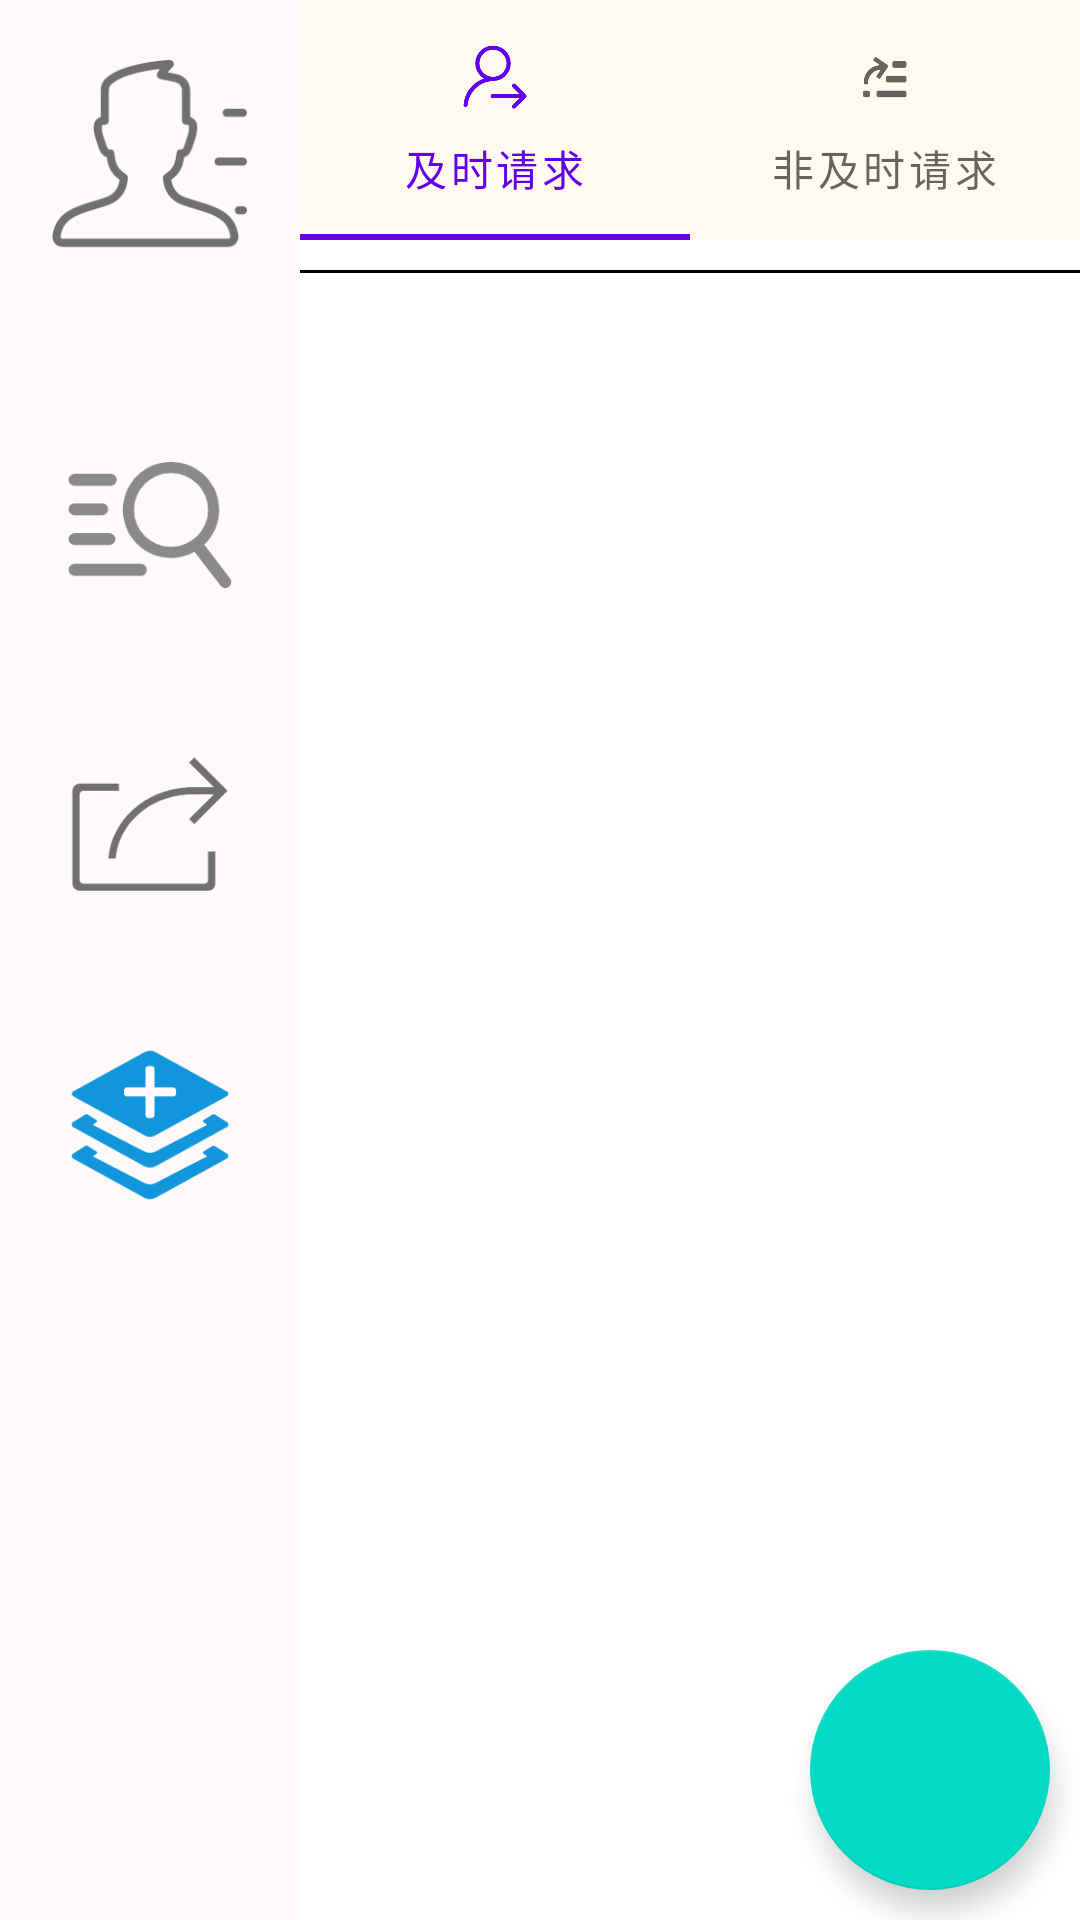

Where icons sit on this 1080w x 1920h app screen, as (left=x1, top=y1, right=x2, bottom=y2):
search: (left=68, top=462, right=232, bottom=588)
share: (left=72, top=757, right=228, bottom=891)
user: (left=52, top=60, right=247, bottom=247)
